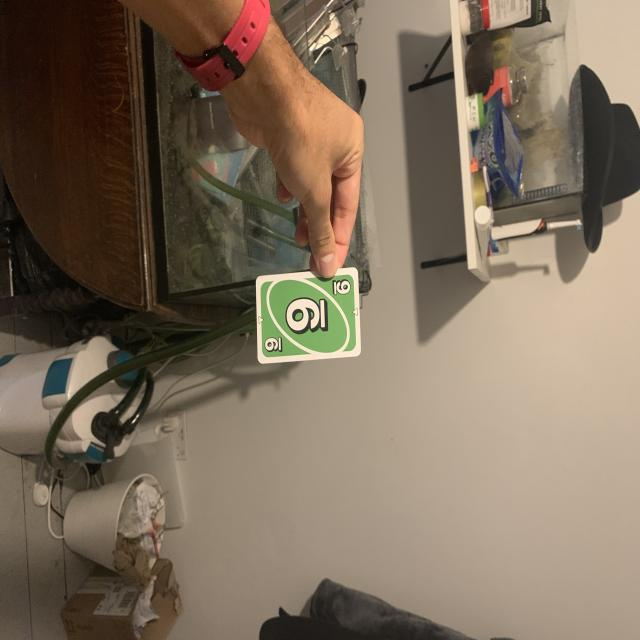lgreen-9: (329, 275, 353, 302)
